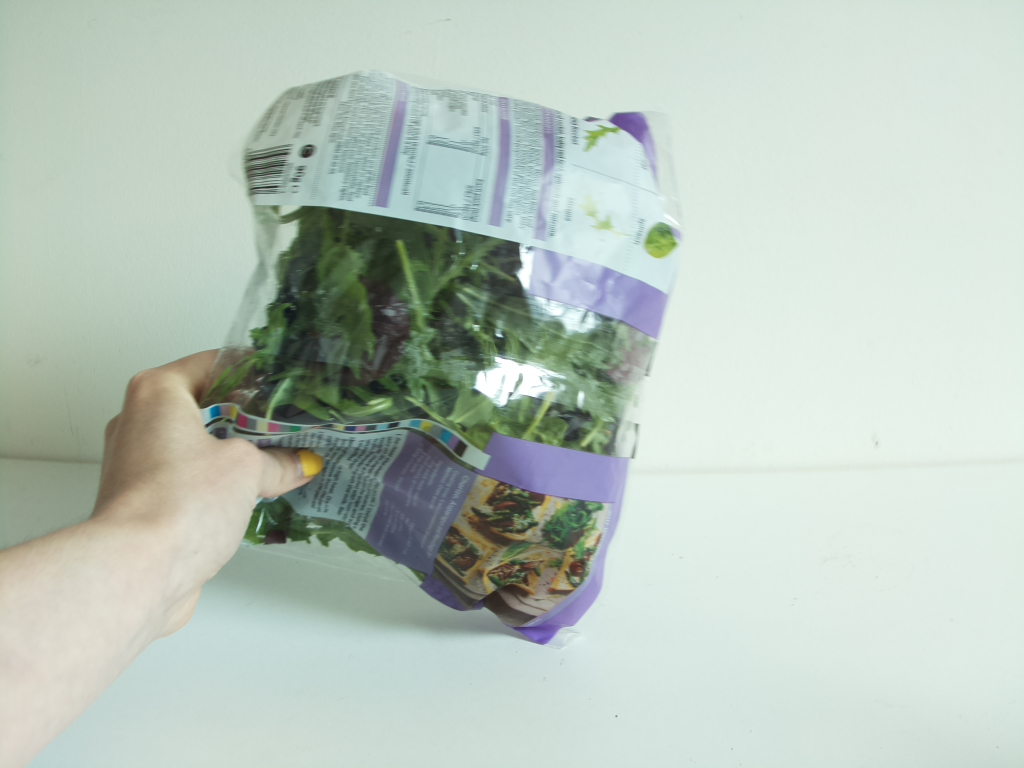salad: (198, 70, 680, 649)
